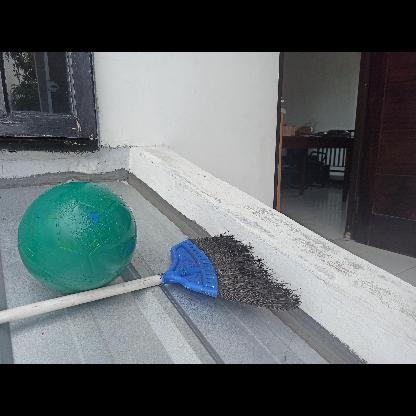green_ball: (14, 174, 136, 294)
